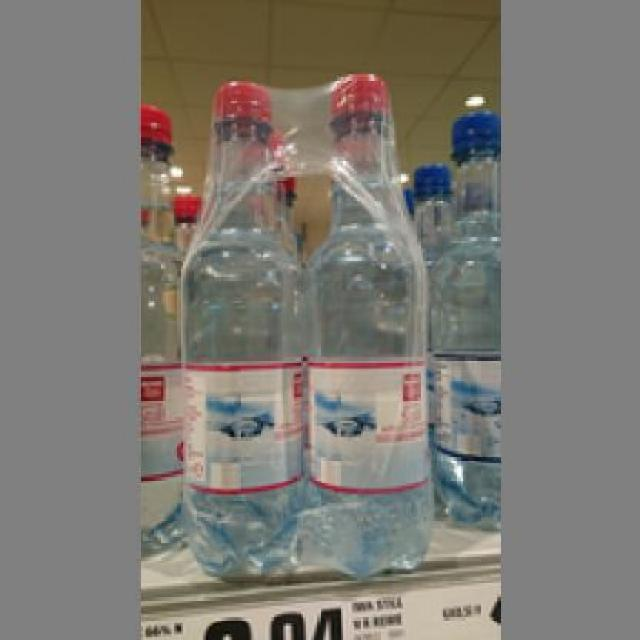Water: (308, 68, 438, 578), (177, 74, 300, 580)
